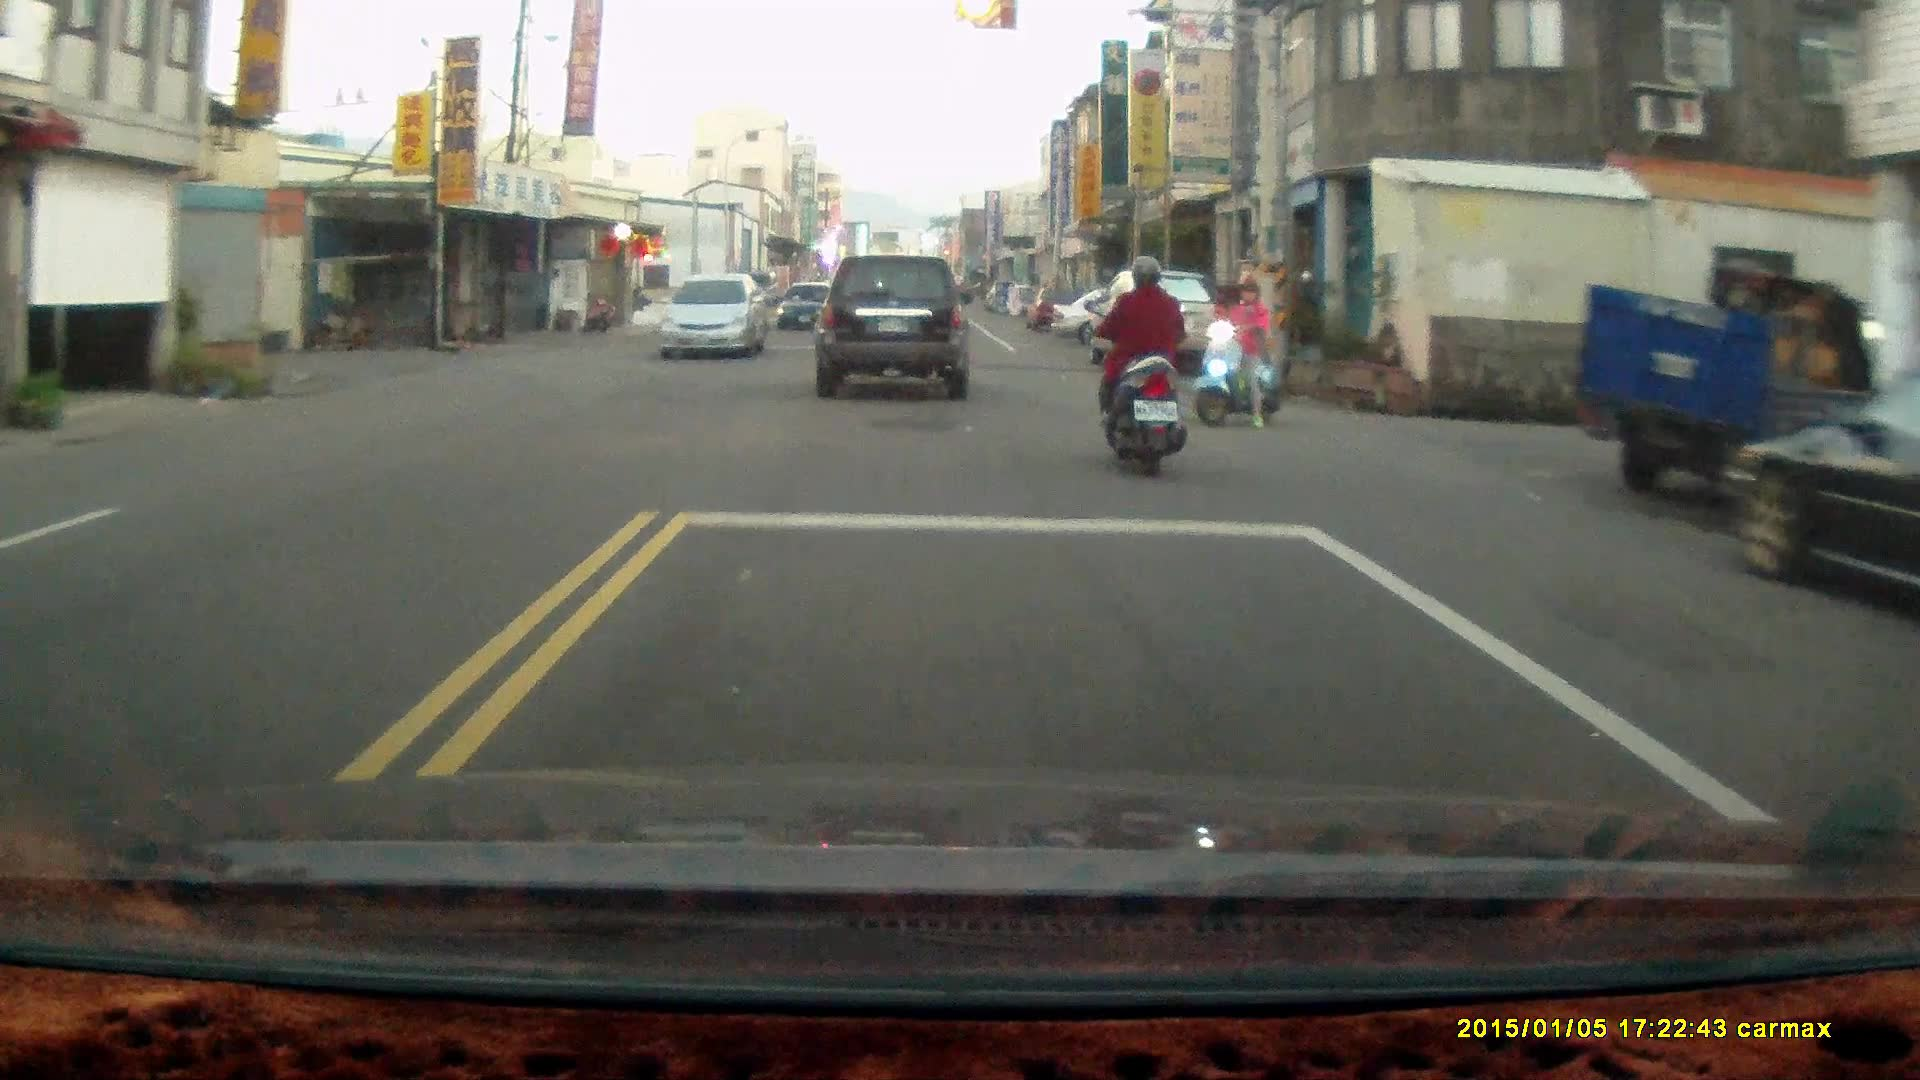rider: (1098, 252, 1185, 484), (1195, 269, 1283, 431)
vehicle: (1570, 254, 1901, 516), (1722, 363, 1920, 630), (813, 252, 979, 403), (1093, 269, 1229, 373), (654, 272, 773, 359)
